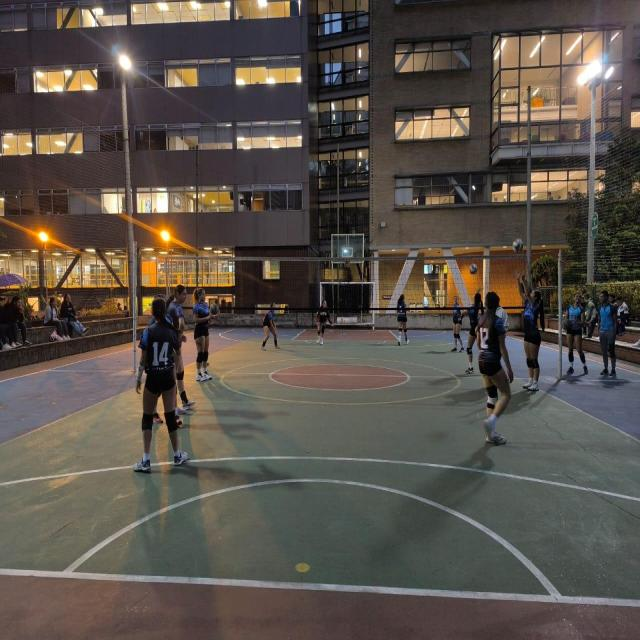volleyball: (512, 239, 522, 253), (210, 303, 219, 316), (563, 318, 571, 328), (470, 264, 477, 274)
